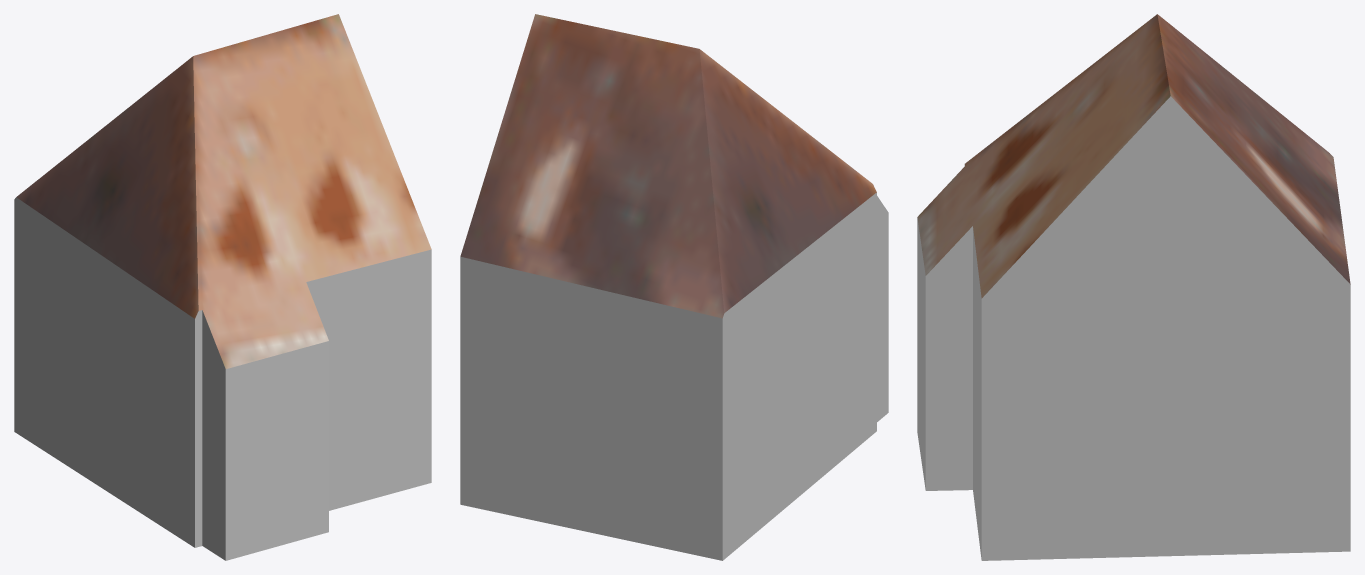
The model's file is DEBW_0010007TxeM.gltf.
The picture shows the model from 3 angles, left to right: view 1: azimuth 30°, elevation 25°; view 2: azimuth 150°, elevation 25°; view 3: azimuth 270°, elevation 25°; orthographic projection. The views are drawn at different scales.
Parts seen in each view (by area): view 1: Z_UP; view 2: Z_UP; view 3: Z_UP.
Part boxes in pixels (x1,y1,x2,y2): Z_UP: (14, 14, 431, 560); Z_UP: (460, 14, 888, 560); Z_UP: (917, 14, 1350, 560).
Bounding box in the file's own units: 8.53 × 12.79 × 10.92.
Materials: 2 (1 with a texture image).
